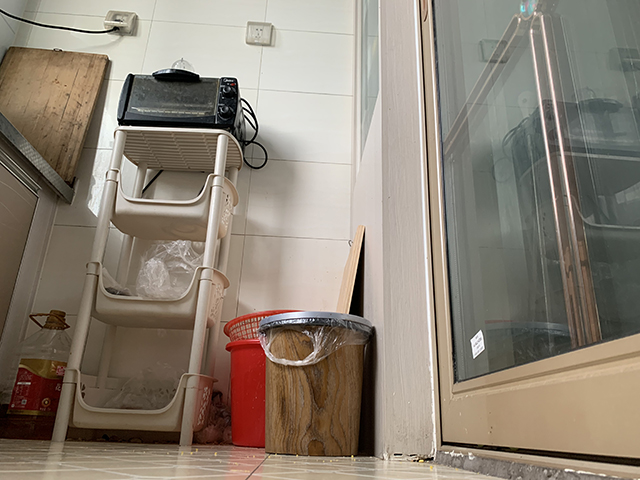trashcan: (256, 311, 372, 457)
